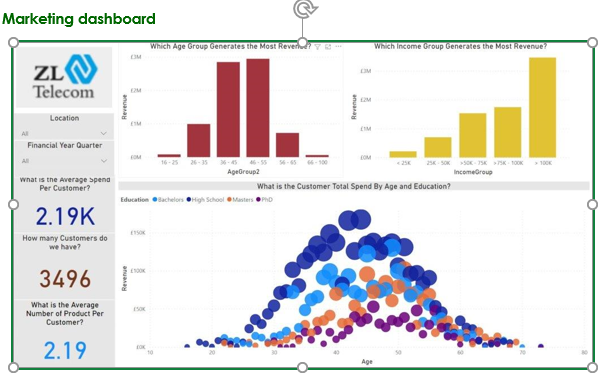

The page's visual inventory and layout, read from the dashboard file:
{"tool":"powerbi","page":{"name":"marketing","canvas":[1280,720],"ordinal":0},"visuals":[{"type":"card","title":"what is spend per customer ","fields":{"Values":["SalesInfo1.AverageRevenue"]},"box":[10.1,0,189.8,196.5],"z":0},{"type":"card","title":"total number of customers","fields":{"Values":["SalesInfo1.NumberOfCustomers"]},"box":[10,238.5,190,197],"z":1000},{"type":"card","fields":{"Values":["SalesInfo1.averageproducts"]},"box":[10,469.5,190,197],"z":2000},{"type":"columnChart","fields":{"Category":["SalesInfo1.AgeGroup"],"Y":["SalesInfo1.TotalRevenue"]},"box":[256.7,18.6,484.6,319.2],"z":3000},{"type":"columnChart","fields":{"Category":["SalesInfo1.Incomegroup"],"Y":["SalesInfo1.TotalRevenue"]},"box":[793.7,18.6,474.5,319.2],"z":4000},{"type":"scatterChart","fields":{"Y":["SalesInfo1.TotalRevenue"],"Series":["SalesInfo1.Education"],"Size":["SalesInfo1.TotalRevenue"],"X":["SalesInfo1.Age"]},"box":[256.7,337.7,1011.5,342.8],"z":5000}]}

Visuals, with their boxes on the page's 1280x720 design canvas (x1, y1, x2, y2). These are canvas units, not pixel positions in the 605x378 screenshot, which may show the page scaled, cropped or inside an application window:
"what is spend per customer " card: <box>10,0,200,196</box>
"total number of customers" card: <box>10,238,200,436</box>
card - SalesInfo1.averageproducts: <box>10,470,200,666</box>
columnChart - SalesInfo1.AgeGroup x SalesInfo1.TotalRevenue: <box>257,19,741,338</box>
columnChart - SalesInfo1.Incomegroup x SalesInfo1.TotalRevenue: <box>794,19,1268,338</box>
scatterChart - SalesInfo1.TotalRevenue x SalesInfo1.Education: <box>257,338,1268,680</box>
